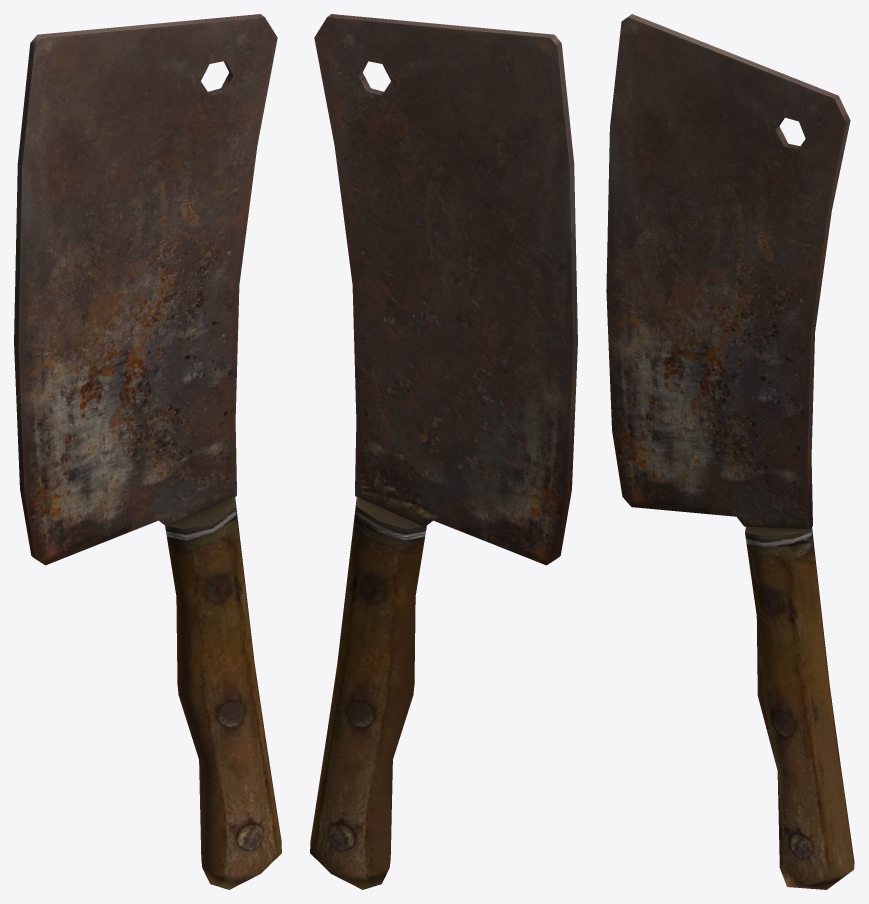
The model's file is SM_PRP_Knife_Cleaver_01_A.fbx.
3 renders of one model, left to right at view 1: azimuth 30°, elevation 25°; view 2: azimuth 150°, elevation 25°; view 3: azimuth 330°, elevation 25°, orthographic. The views are drawn at different scales.
Parts seen in each view (by area): view 1: SM_PRP_Knife_Cleaver_01_A; view 2: SM_PRP_Knife_Cleaver_01_A; view 3: SM_PRP_Knife_Cleaver_01_A.
Part boxes in pixels (x1,y1,x2,y2): SM_PRP_Knife_Cleaver_01_A: [14, 14, 281, 889]; SM_PRP_Knife_Cleaver_01_A: [310, 14, 577, 889]; SM_PRP_Knife_Cleaver_01_A: [606, 14, 854, 889].
Bounding box in the file's own units: 9.6 × 30.88 × 1.83.
